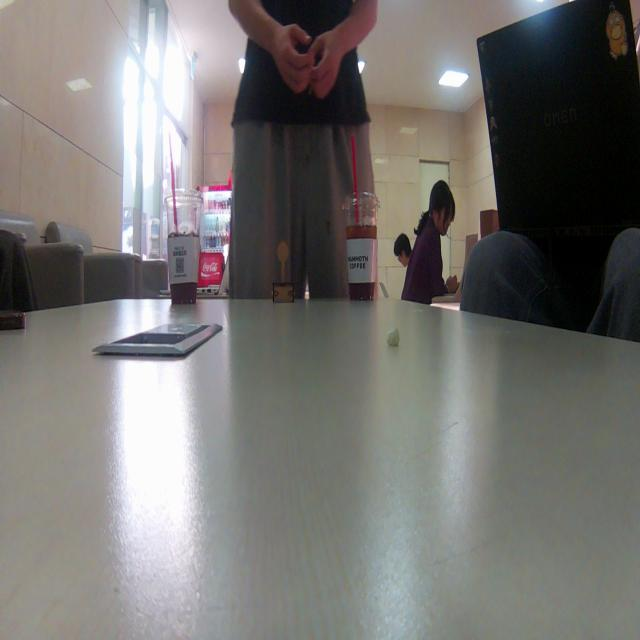target: (272, 240, 294, 303)
